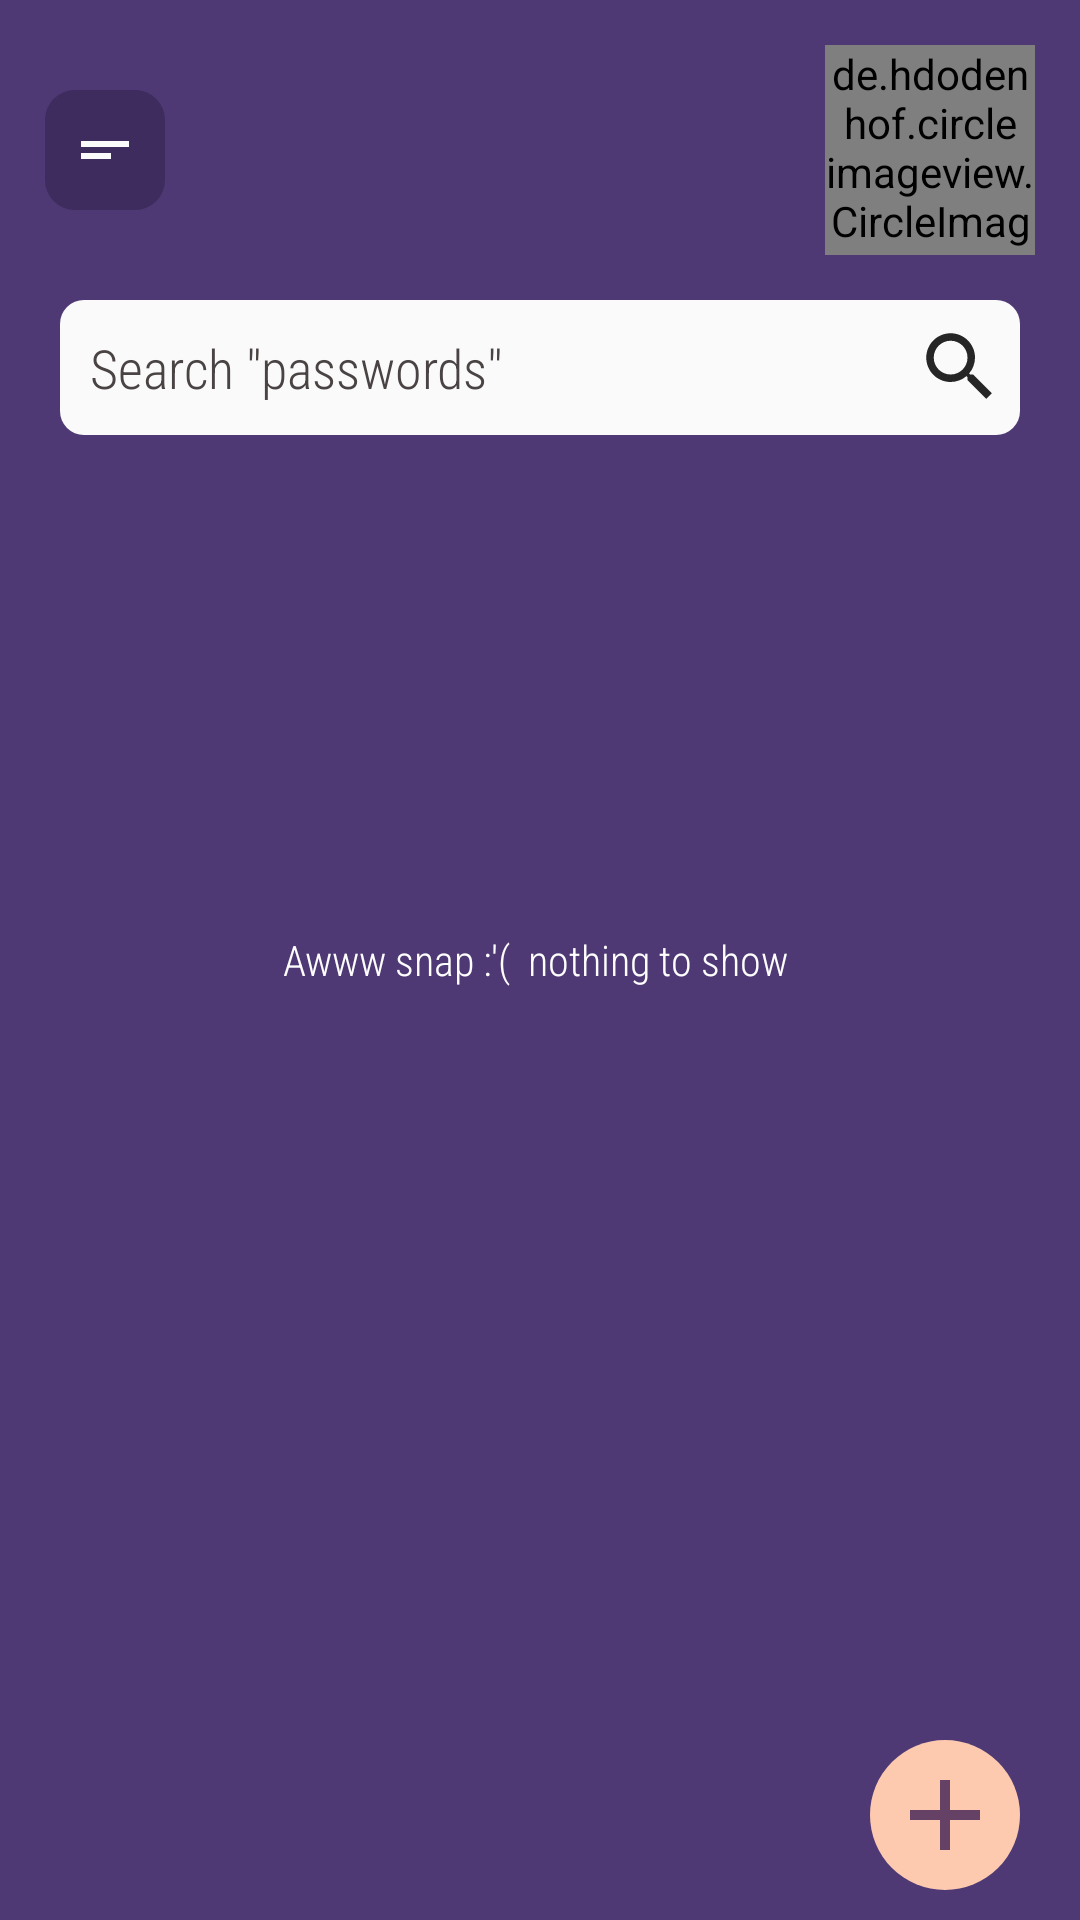

Locate icon controls on the screen. Image size 1080px x 1920px, boxes as (x1, y1, x2, y2).
add: (870, 1740, 1020, 1890)
sortbtn: (81, 141, 129, 159)
